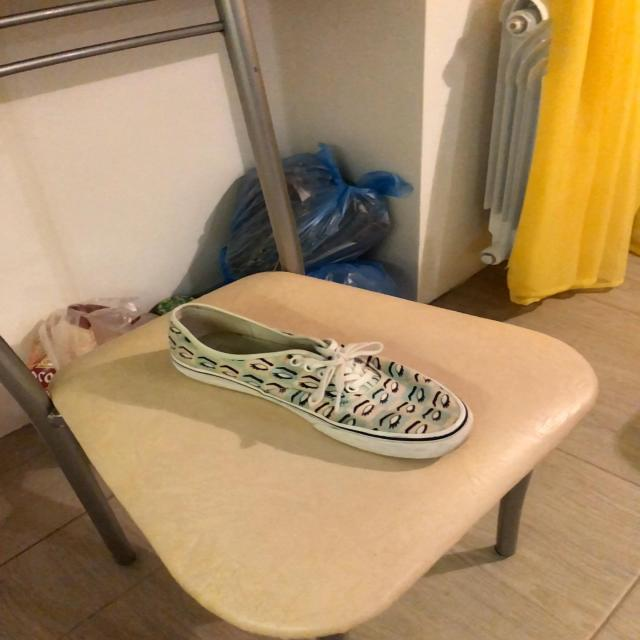shoe: (167, 304, 474, 464)
